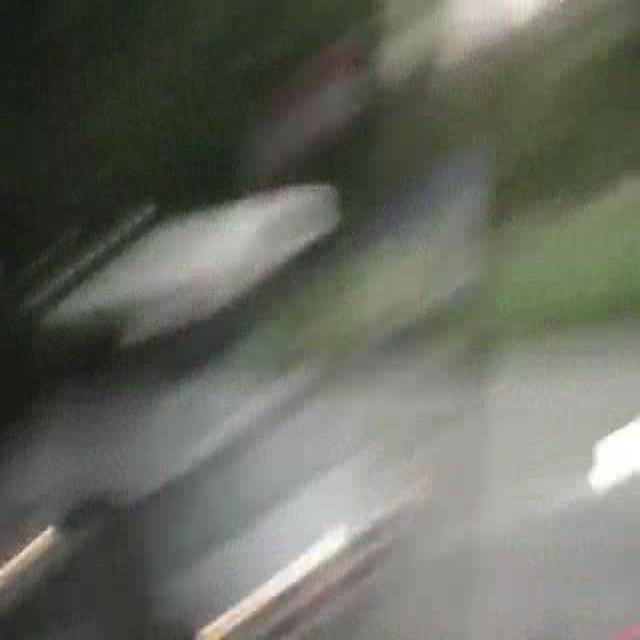other: (176, 527, 358, 623)
